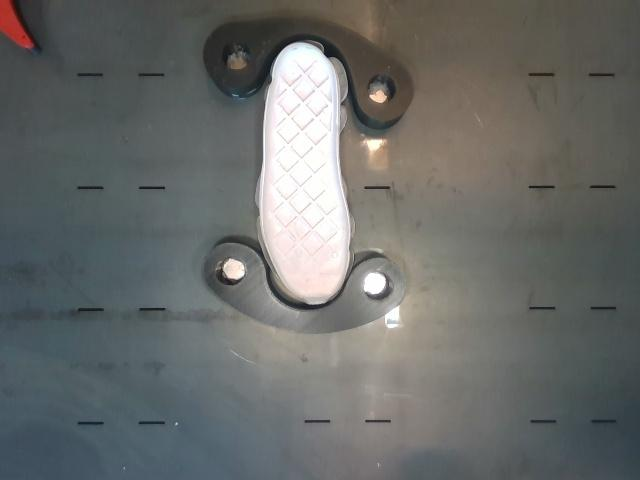shoes: (261, 43, 350, 304)
